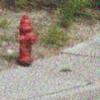a fire hydrant: (16, 14, 38, 67)
